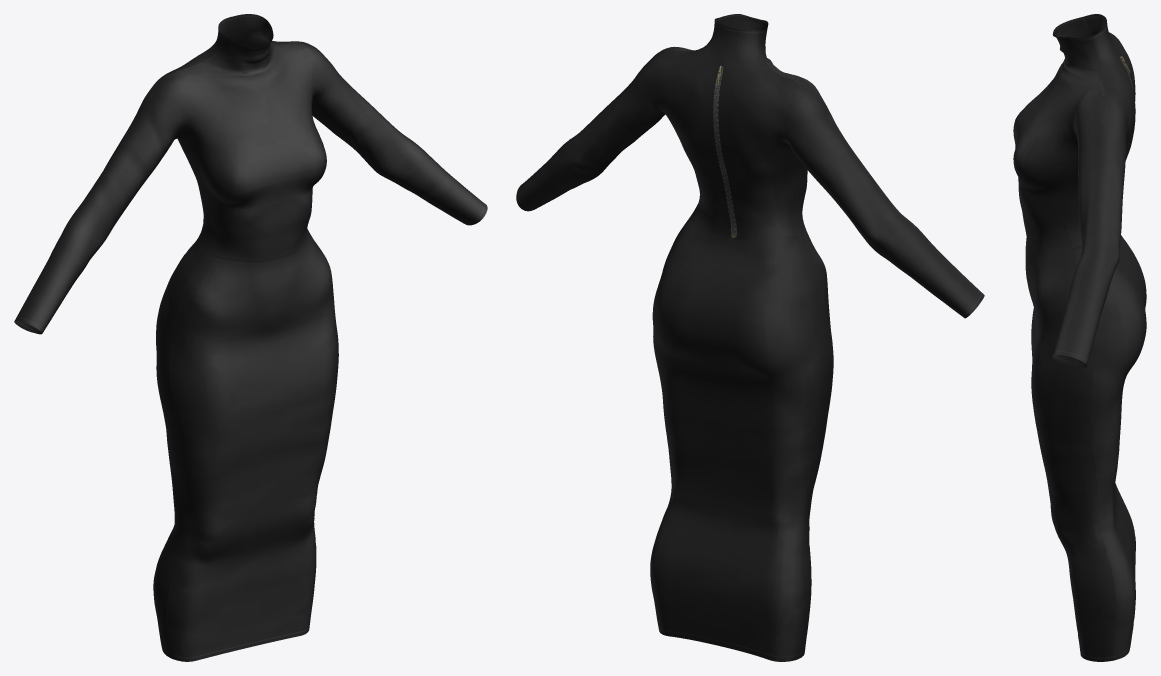
File: f_longdress.glb
3 renders of one model, left to right at view 1: azimuth 30°, elevation 25°; view 2: azimuth 150°, elevation 25°; view 3: azimuth 270°, elevation 25°, orthographic. The views are drawn at different scales.
Visible parts, largest first — view 1: Object_2, Object_3; view 2: Object_2, Object_3, Object_5; view 3: Object_2, Object_3.
Part boxes in pixels (left/top/right/bottom): Object_2: left=153, top=14, right=338, bottom=661; Object_3: left=14, top=42, right=487, bottom=334; Object_2: left=650, top=14, right=833, bottom=661; Object_3: left=516, top=47, right=984, bottom=318; Object_5: left=713, top=65, right=736, bottom=237; Object_2: left=1013, top=14, right=1146, bottom=661; Object_3: left=1052, top=95, right=1127, bottom=367.
Bounding box in the file's own units: 99.78 × 128 × 25.35.
Materials: 4 (4 with a texture image).
